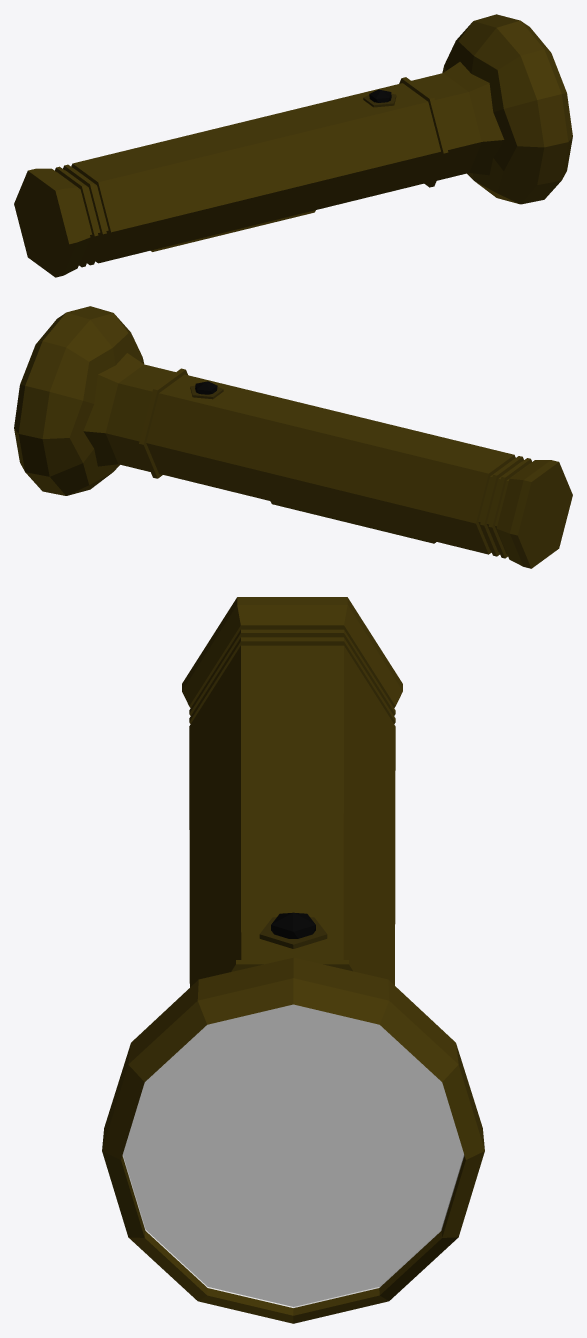
File: flashlight.fbx
3 views of the same model, one above another, from view 1: azimuth 30°, elevation 25°; view 2: azimuth 150°, elevation 25°; view 3: azimuth 270°, elevation 25° (orthographic). The views are drawn at different scales.
Visible parts, largest first — view 1: flashlight; view 2: flashlight; view 3: flashlight, flashlight_glass, flashlight_btn.
Part boxes in pixels (x1=…): flashlight: x1=14, y1=14, x2=572, y2=277; flashlight: x1=14, y1=306, x2=572, y2=568; flashlight: x1=102, y1=597, x2=484, y2=1323; flashlight_glass: x1=123, y1=1004, x2=463, y2=1306; flashlight_btn: x1=271, y1=912, x2=315, y2=938.
Bounding box in the file's own units: 192 × 65.12 × 65.38.
